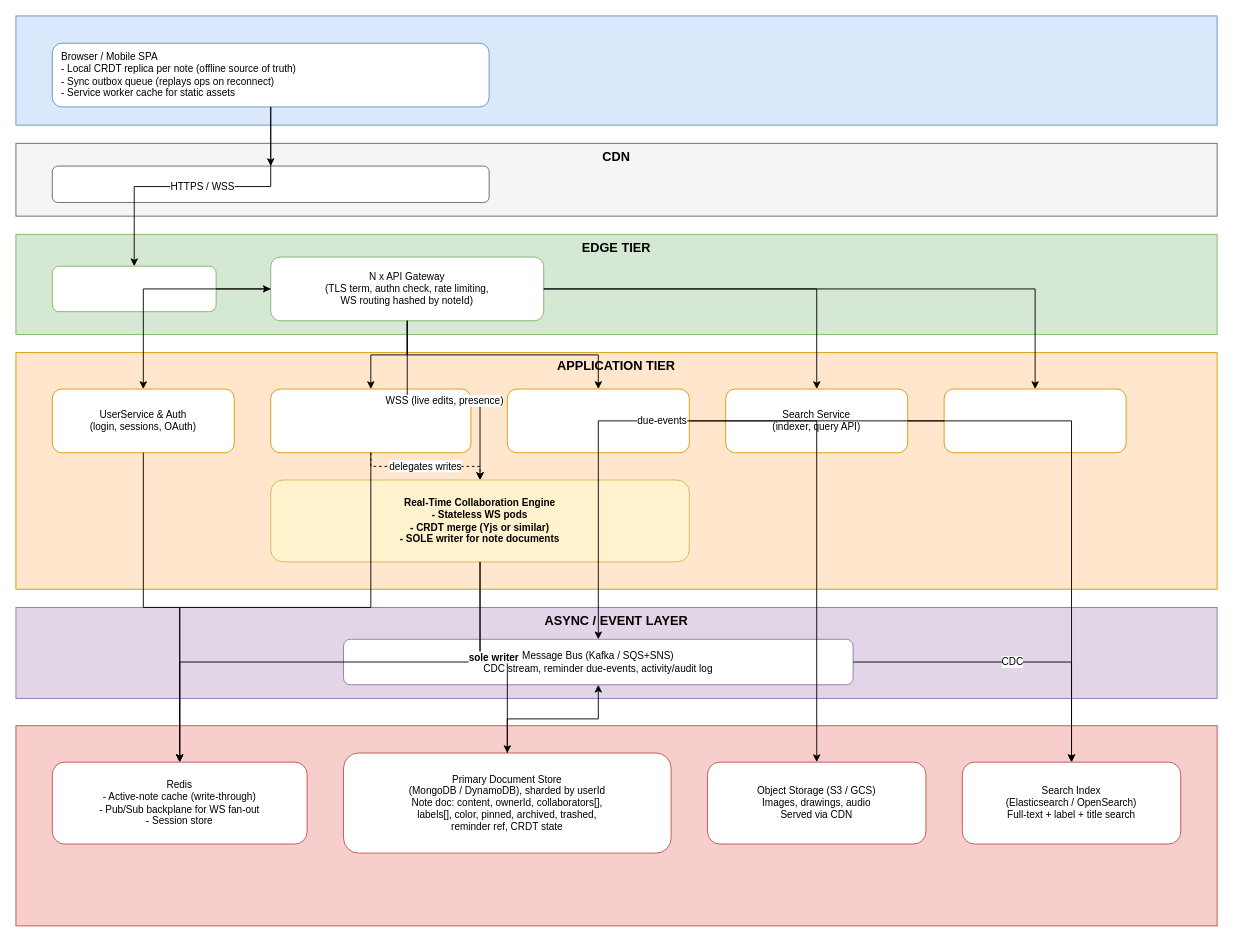
The diagram is 1233 pixels wide and 942 high, and some of its shapes have lost their labels. Each missing label, with the box of its shape:
CDN Static assets (JS/CSS) + media thumbnails: (51, 165, 489, 202)
CLIENT TIER: (15, 15, 1217, 125)
DATA TIER: (15, 725, 1217, 926)
Load Balancer: (51, 265, 216, 312)
Media Service (signed upload/download URLs): (506, 388, 689, 453)
Notes Service (CRUD, ACL inline on doc, delegates live edits to Collab Engine): (270, 388, 471, 453)
Reminder Service (schedules, triggers push): (943, 388, 1126, 453)
